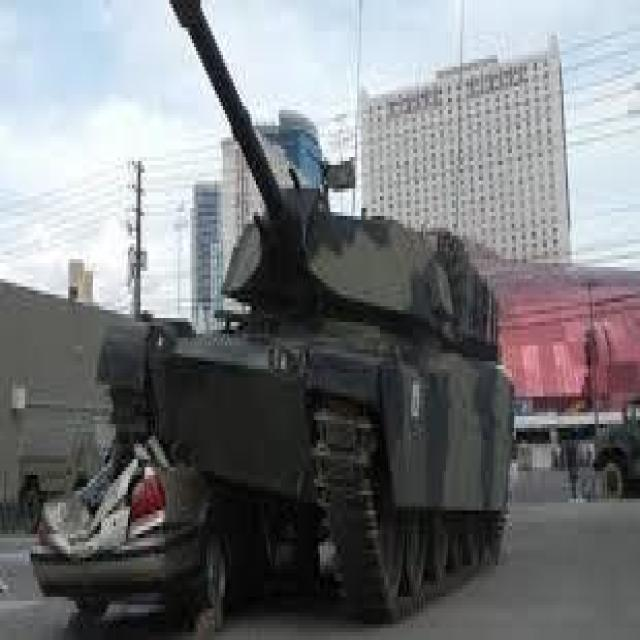MIL_MBT: (110, 8, 565, 601)
